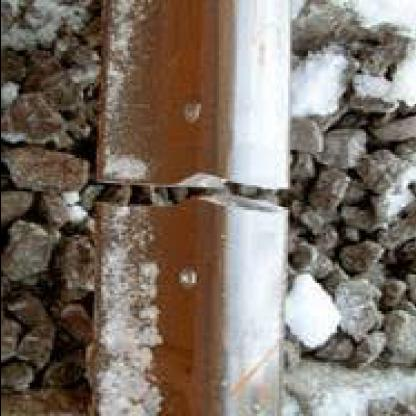Defective: (74, 0, 314, 382)
